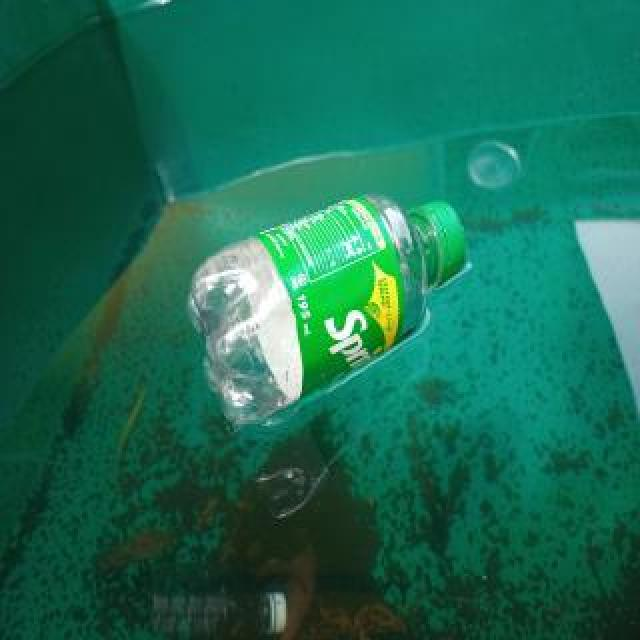bottle: (189, 188, 467, 430)
